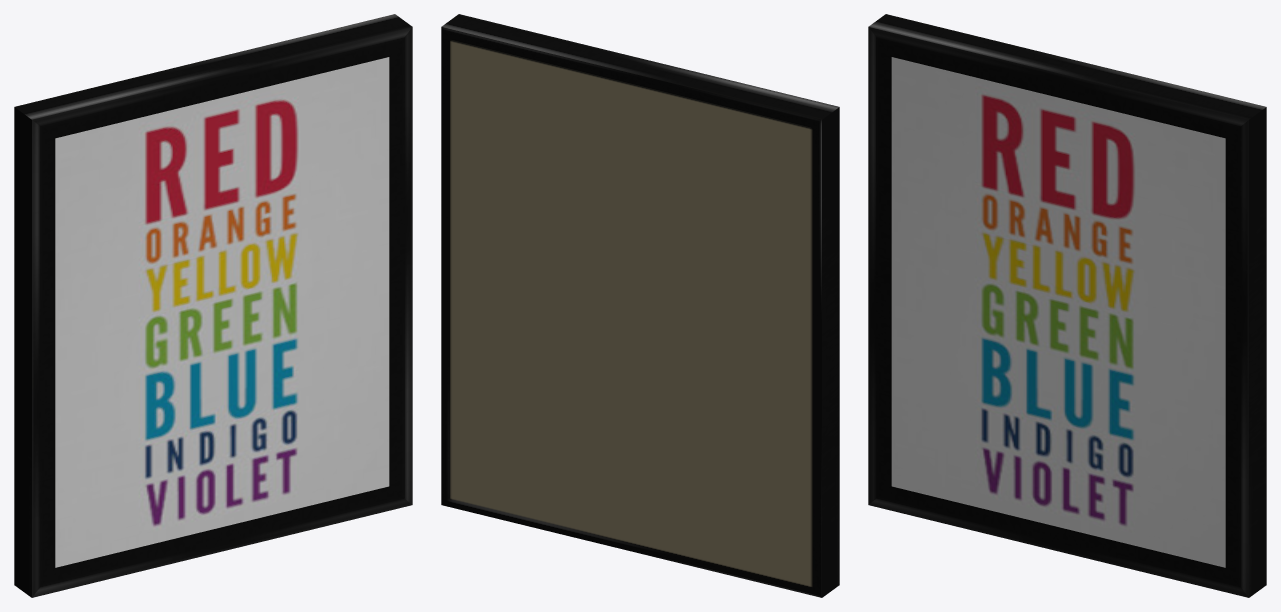
The model's file is poster6.FBX.
3 renders of one model, left to right at view 1: azimuth 30°, elevation 25°; view 2: azimuth 150°, elevation 25°; view 3: azimuth 330°, elevation 25°, orthographic.
Parts seen in each view (by area): view 1: poster6; view 2: poster6; view 3: poster6.
Boxes of the visible parts, left/top/right/bottom form: poster6: left=14, top=14, right=412, bottom=597; poster6: left=441, top=14, right=839, bottom=597; poster6: left=868, top=14, right=1266, bottom=597.
Bounding box in the file's own units: 5 × 6 × 0.4.
